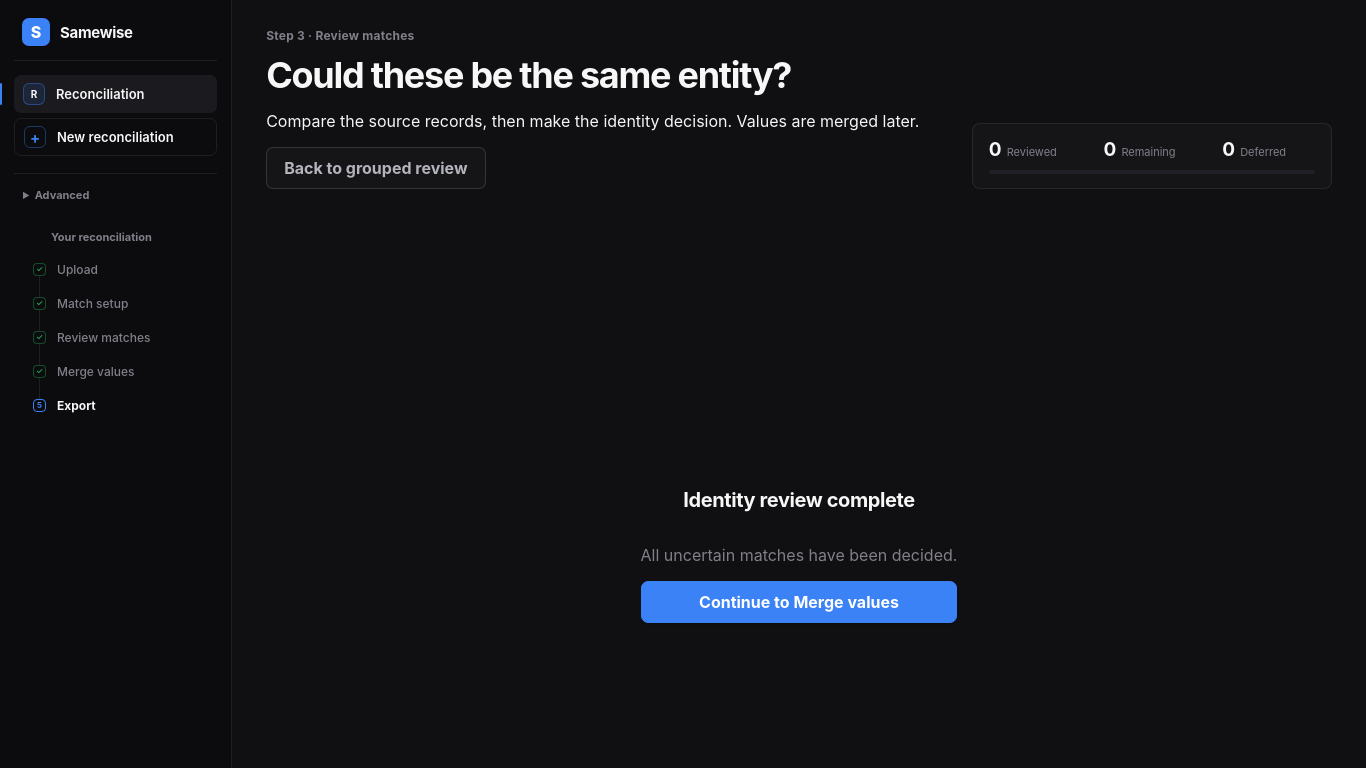
Test: Samewise vertical slice › opens Merge values from a completed zero-case review without creating another run
Click the button "Continue to Merge values". click: (799, 602)
box: [641,581,957,623]
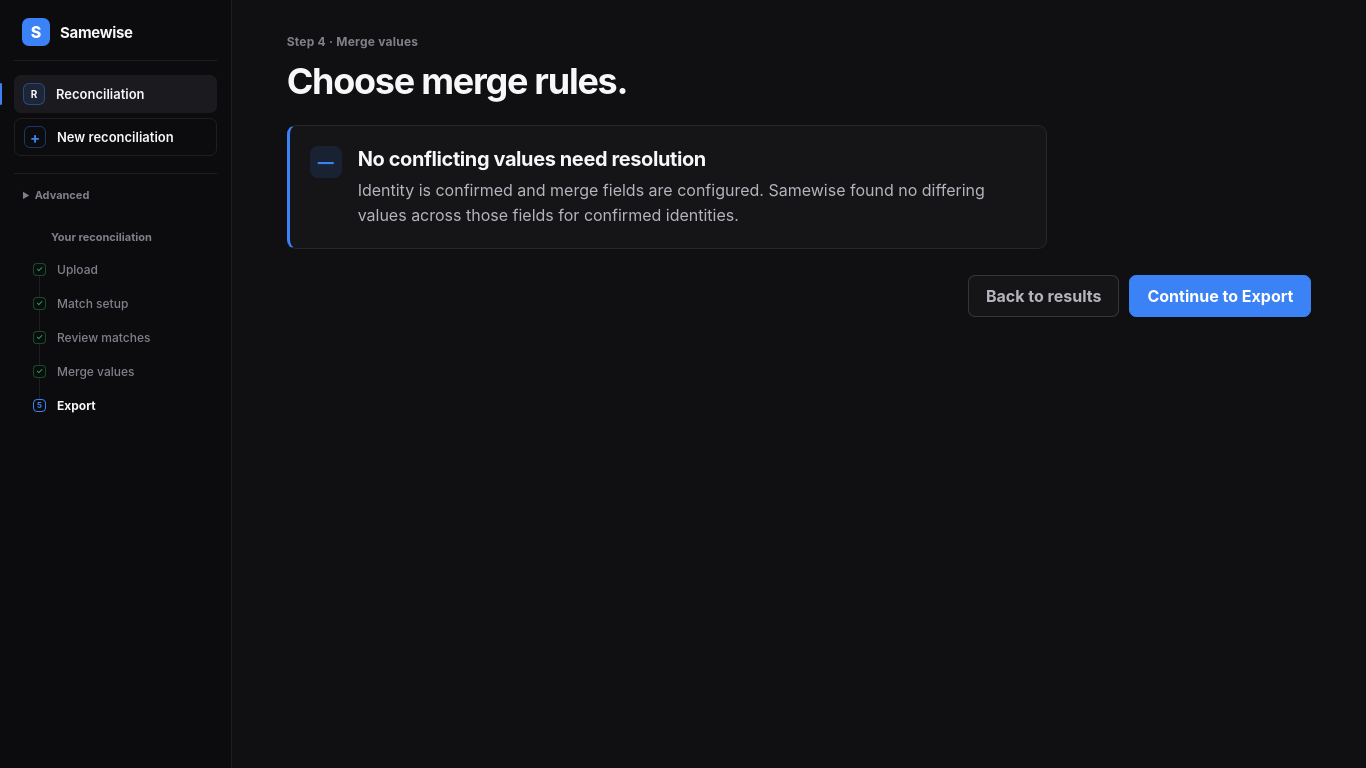
expect the heading "No conflicting values need resolution" is shown: met, box [358,147,706,171]
